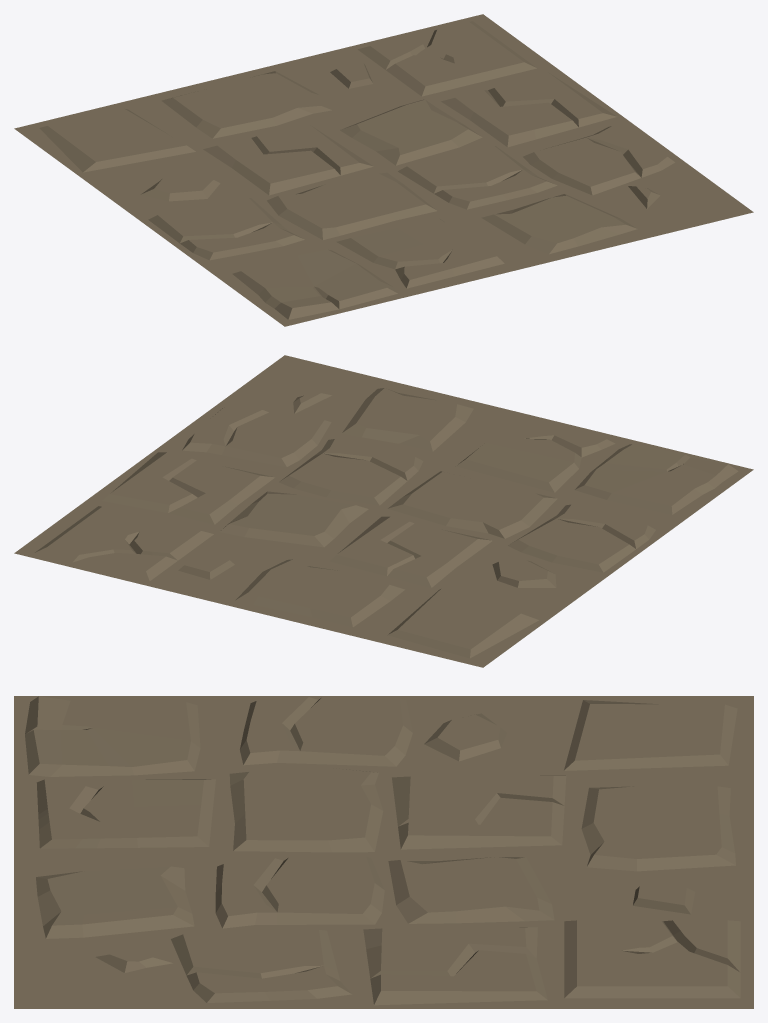
File: Floor_Tile_Small_2_low.fbx
3 views of the same model, one above another, from view 1: azimuth 30°, elevation 25°; view 2: azimuth 150°, elevation 25°; view 3: azimuth 270°, elevation 25° (orthographic). The views are drawn at different scales.
Parts seen in each view (by area): view 1: Floor_Tile_Small_2_low; view 2: Floor_Tile_Small_2_low; view 3: Floor_Tile_Small_2_low.
Boxes of the visible parts, x1,y1,x2,y2 form: Floor_Tile_Small_2_low: (14, 14, 753, 326); Floor_Tile_Small_2_low: (14, 355, 753, 667); Floor_Tile_Small_2_low: (14, 696, 753, 1008).
Size of the model in its own units: 1 by 0.0164 by 1.
